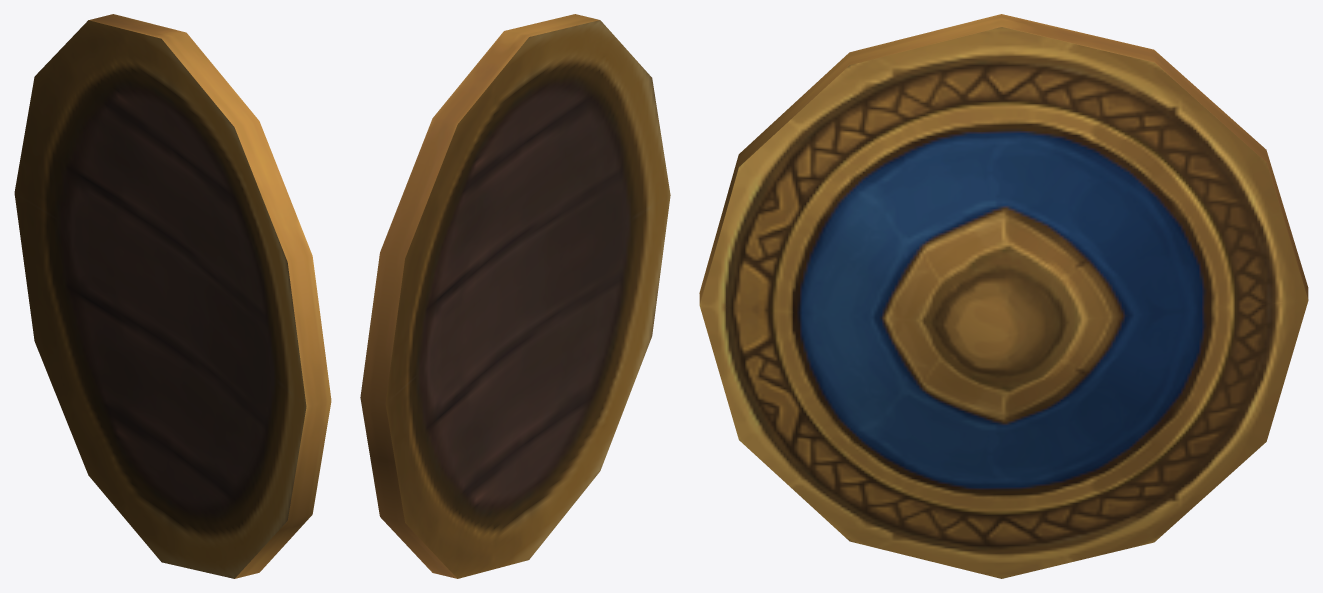
The model's file is DWF_Shield_D.FBX.
3 views of the same model, side by side, from view 1: azimuth 30°, elevation 25°; view 2: azimuth 150°, elevation 25°; view 3: azimuth 270°, elevation 25° (orthographic). The views are drawn at different scales.
Parts seen in each view (by area): view 1: DWF_Shield_D; view 2: DWF_Shield_D; view 3: DWF_Shield_D.
Part boxes in pixels (left/top/right/bottom): DWF_Shield_D: left=14, top=14, right=331, bottom=578; DWF_Shield_D: left=360, top=14, right=670, bottom=578; DWF_Shield_D: left=699, top=14, right=1308, bottom=578.
Bounding box in the file's own units: 5.86 × 31.8 × 31.79.
1 material, 1 textured.
